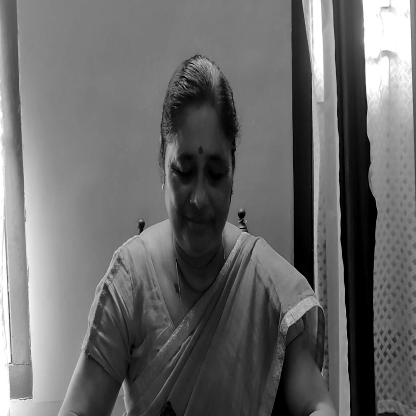Normal: (158, 50, 237, 262)
